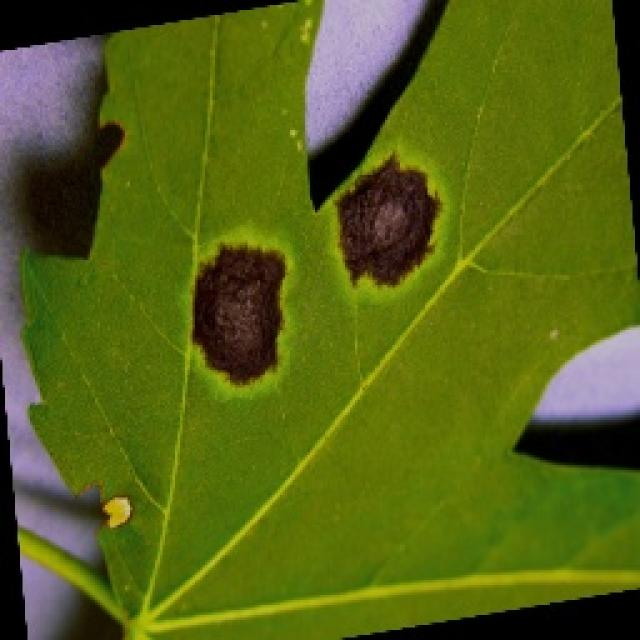Tar_Spot: (0, 0, 638, 638), (140, 138, 444, 392)
